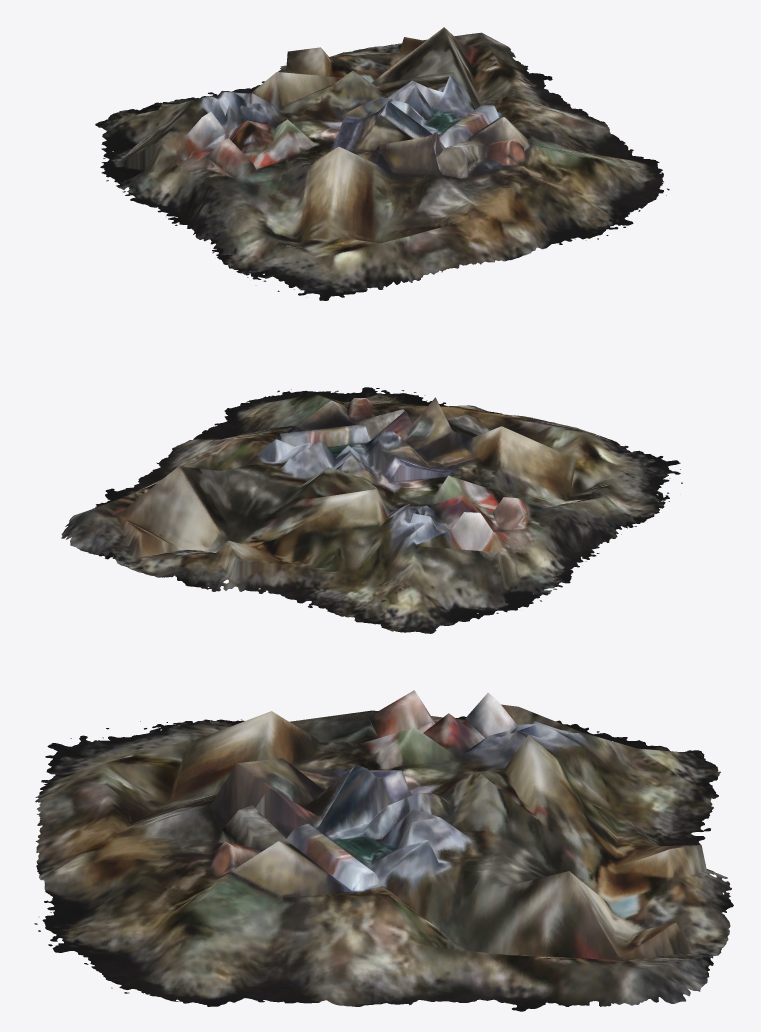
The model's file is garbage heep_obj.obj.
3 renders of one model, top to bottom at view 1: azimuth 30°, elevation 25°; view 2: azimuth 150°, elevation 25°; view 3: azimuth 270°, elevation 25°, orthographic. The views are drawn at different scales.
Visible parts, largest first — view 1: garbage; view 2: garbage; view 3: garbage.
Boxes of the visible parts, x1,y1,x2,y2 form: garbage: [95, 27, 669, 300]; garbage: [61, 387, 682, 633]; garbage: [34, 690, 733, 1011].
Bounding box in the file's own units: 51.86 × 7.66 × 51.86.
